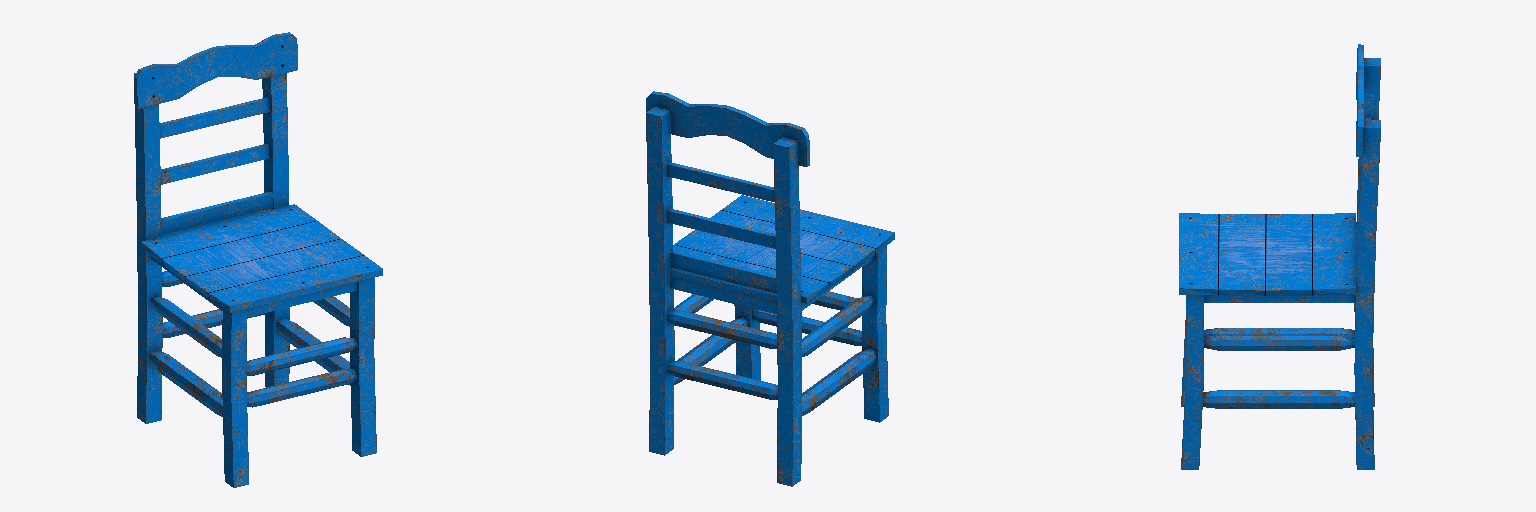
3 renders of one model, left to right at view 1: azimuth 30°, elevation 25°; view 2: azimuth 150°, elevation 25°; view 3: azimuth 270°, elevation 25°, orthographic.
Parts seen in each view (by area): view 1: defaultMaterial; view 2: defaultMaterial; view 3: defaultMaterial.
Boxes of the visible parts, x1,y1,x2,y2 form: defaultMaterial: [134, 32, 382, 487]; defaultMaterial: [646, 91, 894, 486]; defaultMaterial: [1179, 44, 1380, 469].
Bounding box in the file's own units: 0.4692 × 1 × 0.513.
Materials: 1 (1 with a texture image).